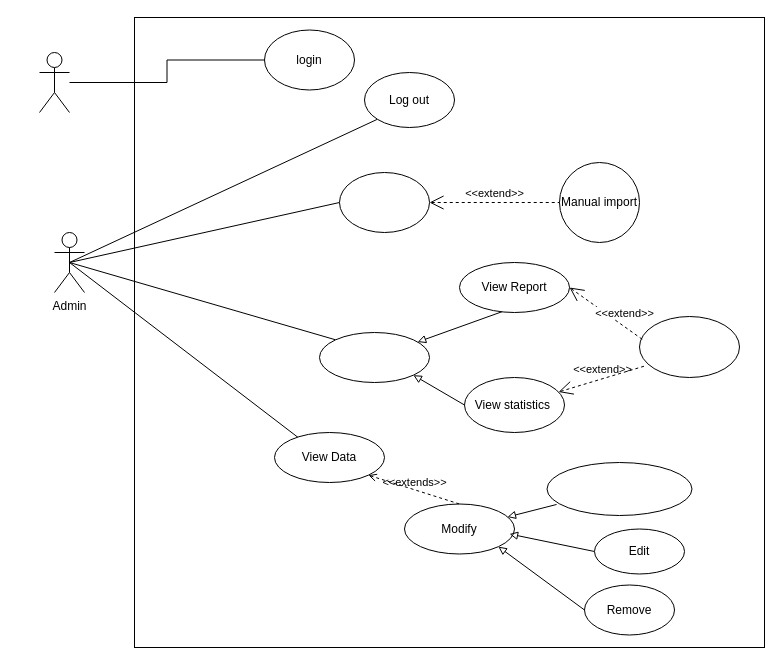
Image size: 782x665. Some labels were removed from this diagram. The centre of each missing label's shape, as x and y in pixels:
"Export file" goes at (x=689, y=347).
"Extract" goes at (x=374, y=357).
"Import Data" goes at (x=384, y=202).
"Unauthorized" goes at (x=54, y=82).
"Update/ Convert status" goes at (x=619, y=489).
